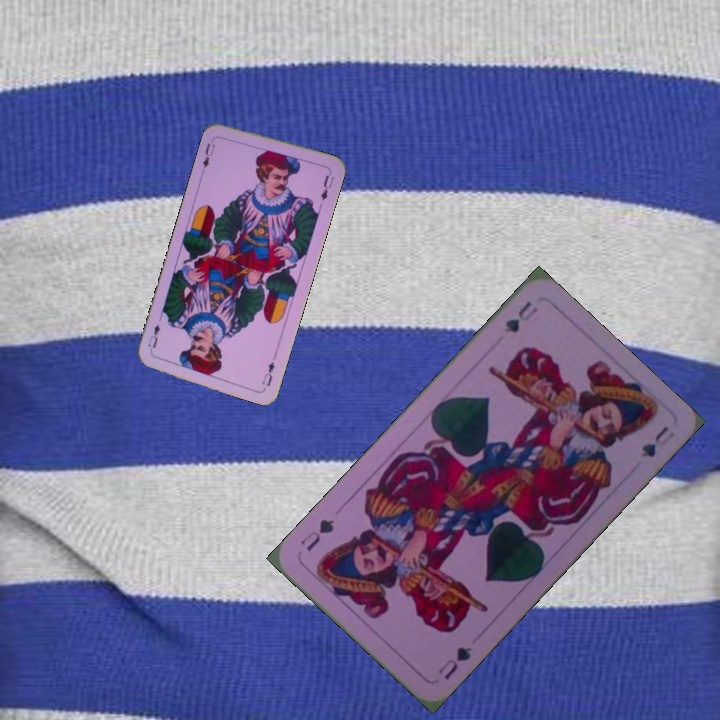EU: (199, 134, 218, 170), (258, 358, 277, 389)
GU: (434, 642, 475, 682), (500, 297, 541, 336)
